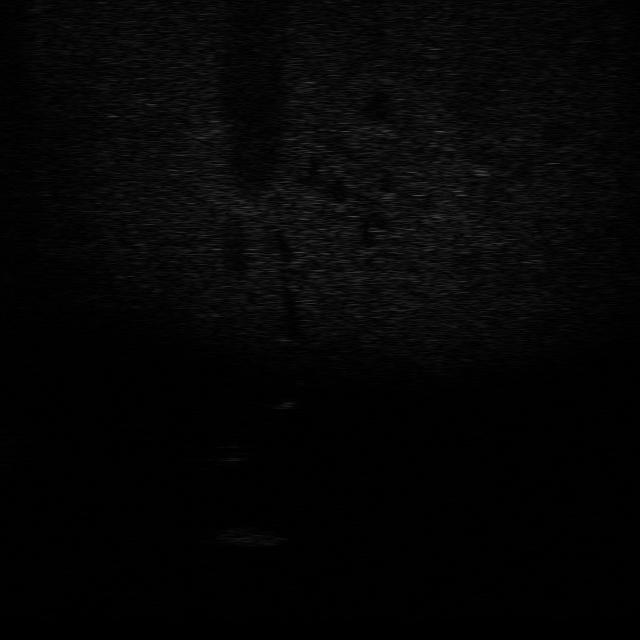ball: (206, 441, 258, 466)
circle cage: (209, 518, 289, 551)
human body: (255, 382, 304, 432)
